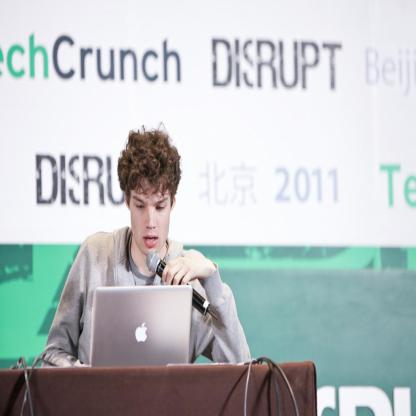board: (88, 286, 192, 367)
